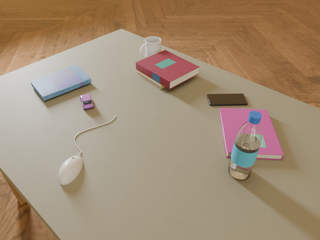book: (219, 108, 284, 160), (136, 50, 199, 89), (31, 65, 91, 101)
bottle: (228, 111, 262, 180)
cup: (140, 37, 161, 58)
mouse: (58, 156, 83, 185)
phone: (207, 94, 248, 105)
toy_car: (80, 94, 94, 109)
